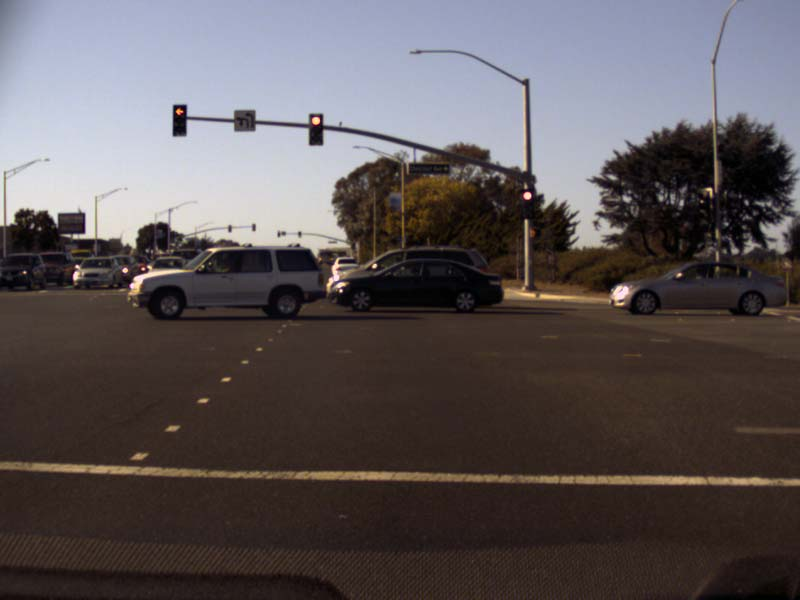Red: (309, 113, 322, 144), (173, 105, 185, 135), (521, 190, 533, 217)
